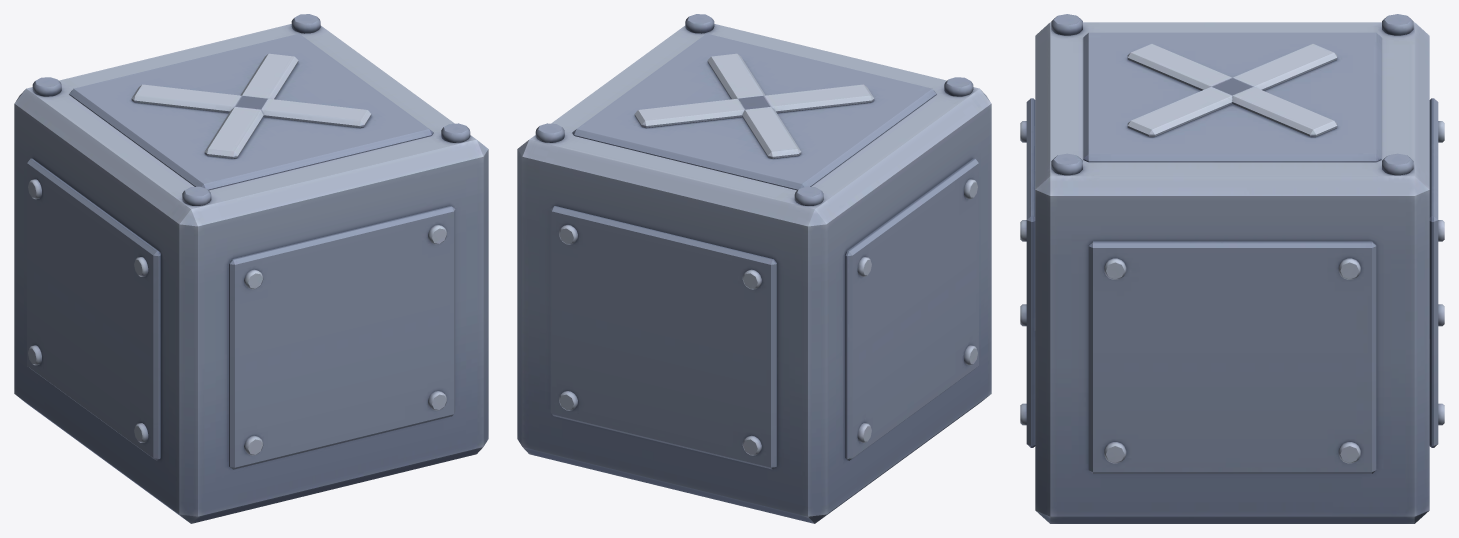
File: prop_steel.glb
3 renders of one model, left to right at view 1: azimuth 30°, elevation 25°; view 2: azimuth 150°, elevation 25°; view 3: azimuth 270°, elevation 25°, orthographic. The views are drawn at different scales.
Parts seen in each view (by area): view 1: prop; view 2: prop; view 3: prop.
Boxes of the visible parts, x1,y1,x2,y2 form: prop: (14,14,488,523); prop: (517,14,991,523); prop: (1020,14,1444,523).
Size of the model in its own units: 3.98 by 3.73 by 3.98.
1 material, 1 textured.
